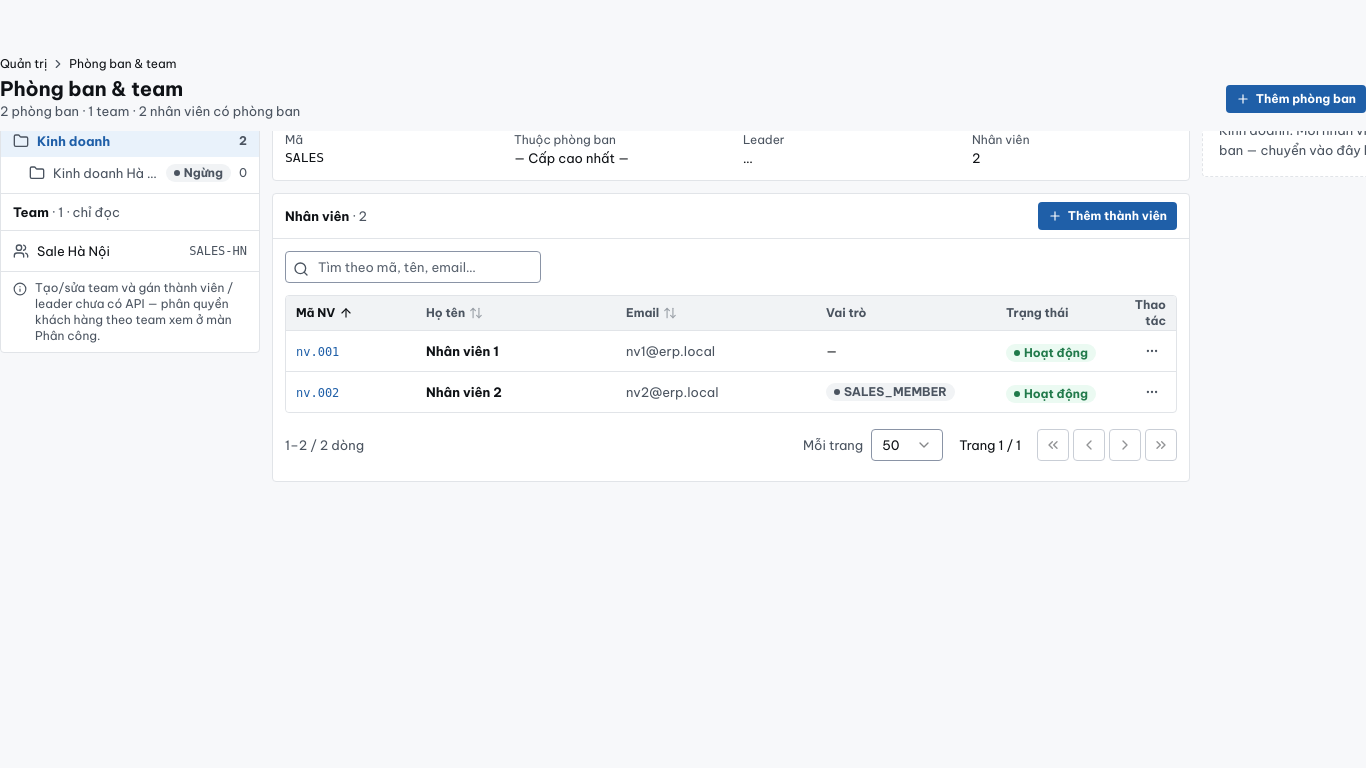
Test: TeamsScreen — Phòng ban & team (I-05) › Thêm phòng ban: dialog → POST /departments đúng body (không gửi parent/manager rỗng)
Expected: the text "Nhân viên 1" is shown, [426,343,499,359]
Step 1. Click the button "Thêm phòng ban" → (1296, 98), box [1226,84,1365,112]
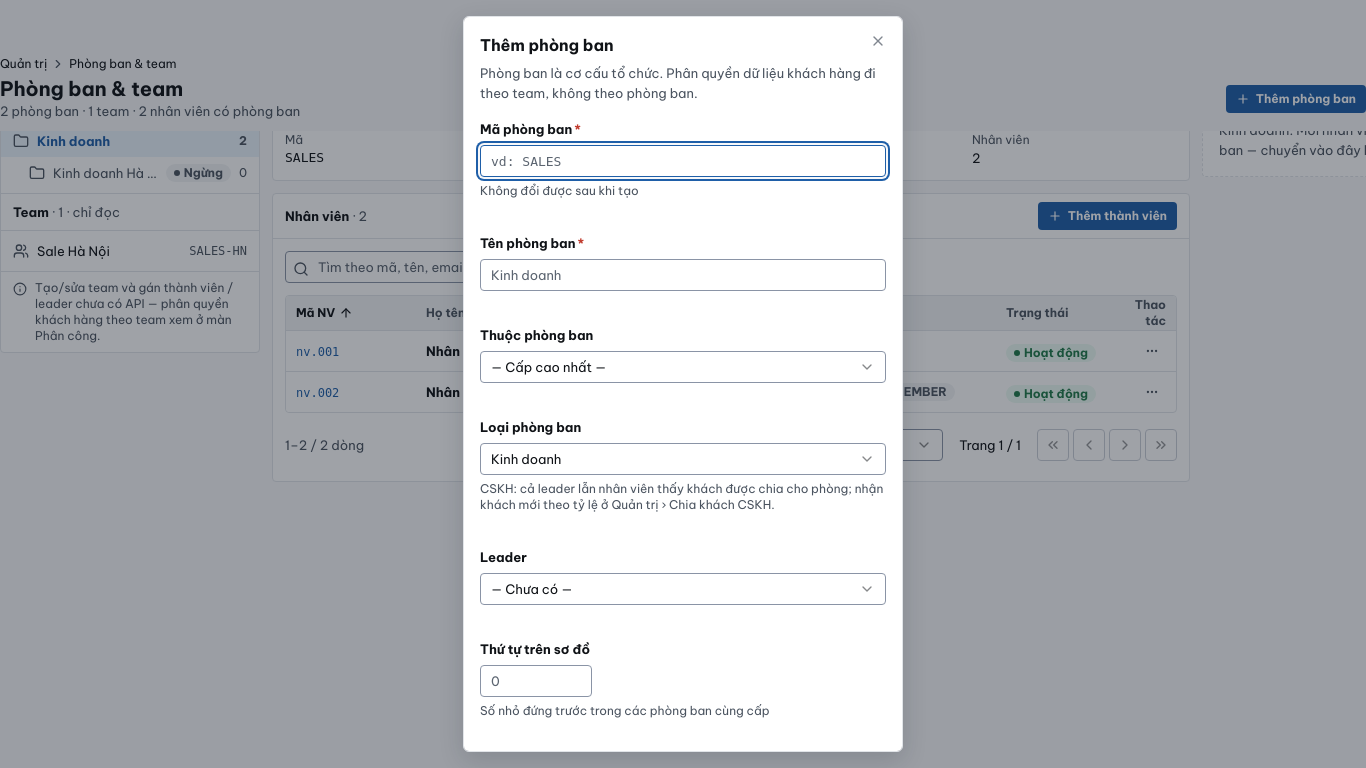
Step 2. Type "CSKH" into the field labelled "Mã phòng ban*" → (683, 161), box [480,145,886,177]
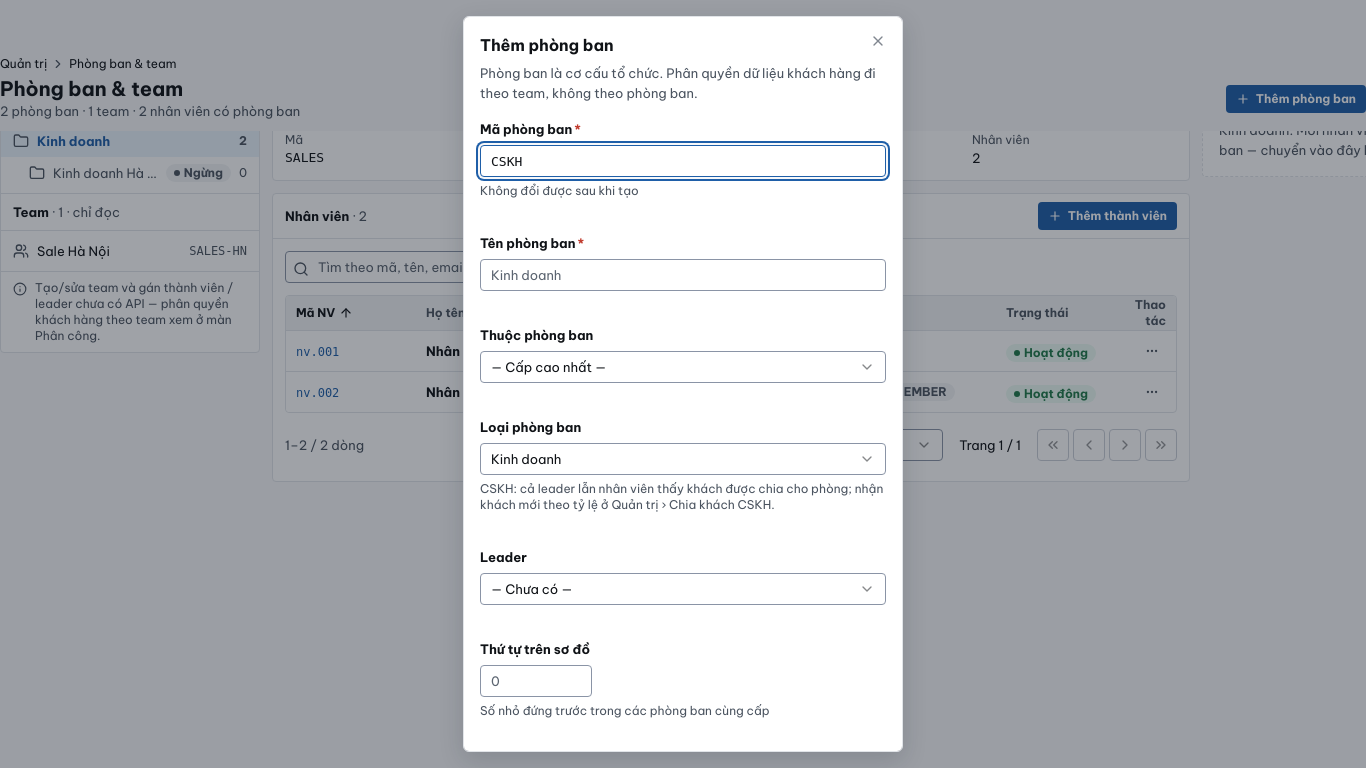
Step 3. Type "Chăm sóc khách hàng" into the field labelled "Tên phòng ban*" → (683, 275), box [480,259,886,291]
(page scrolled)
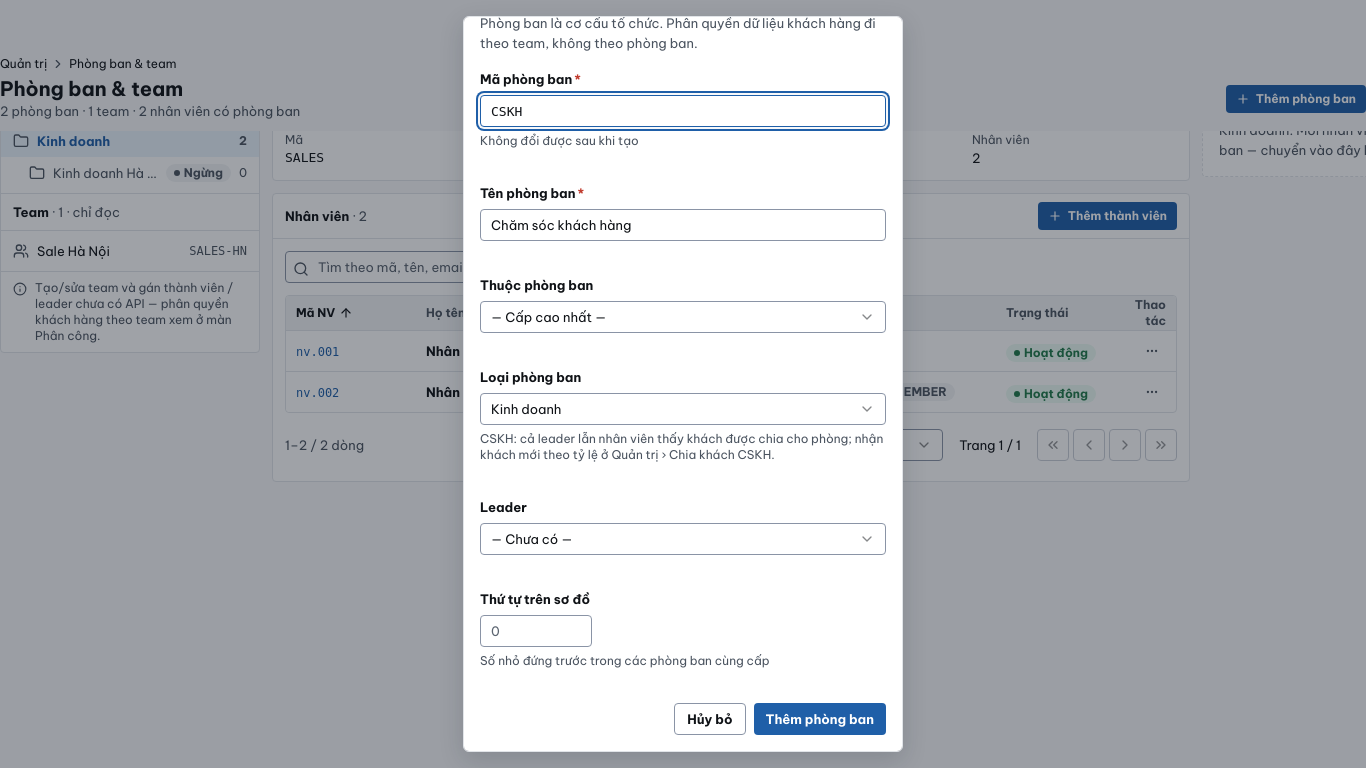
Step 4. Click the button "Thêm phòng ban" → (820, 719), box [754,703,886,735]
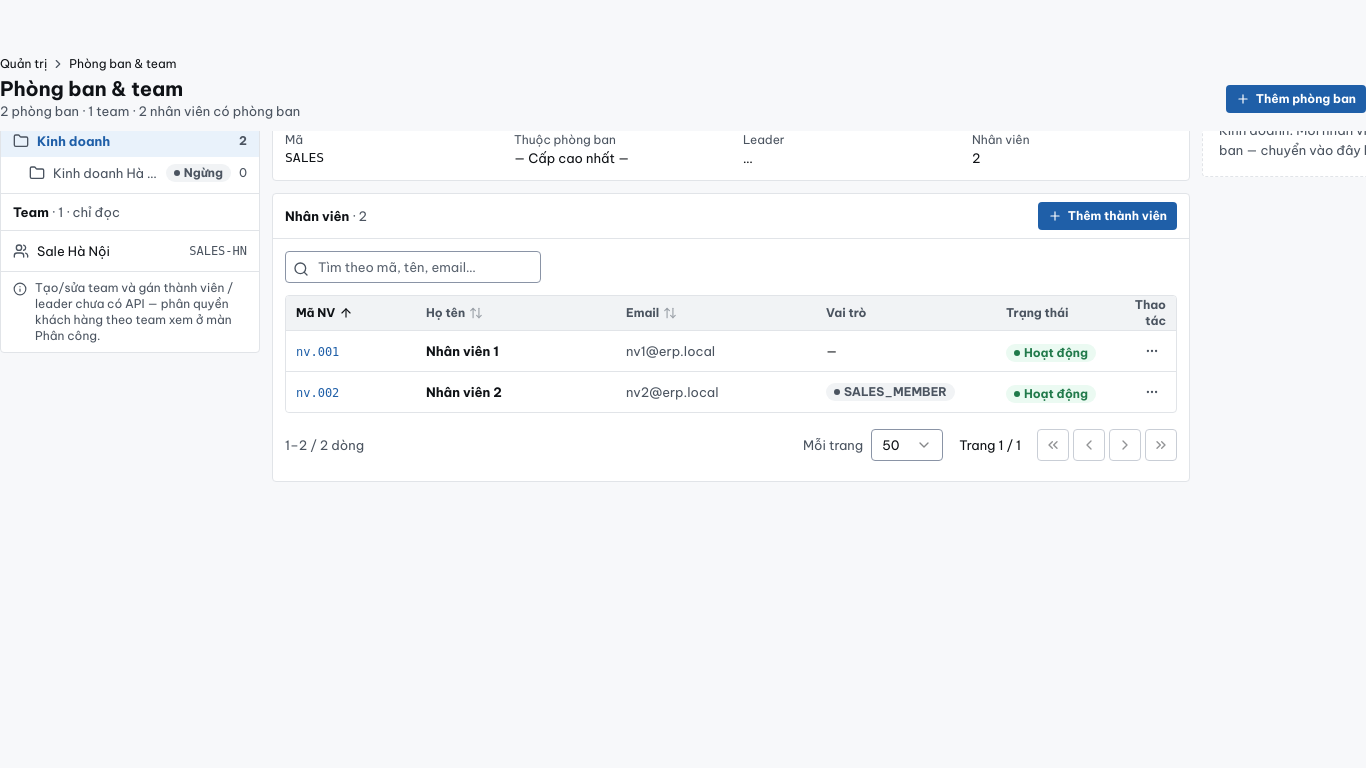
Expected: the dialog is gone
